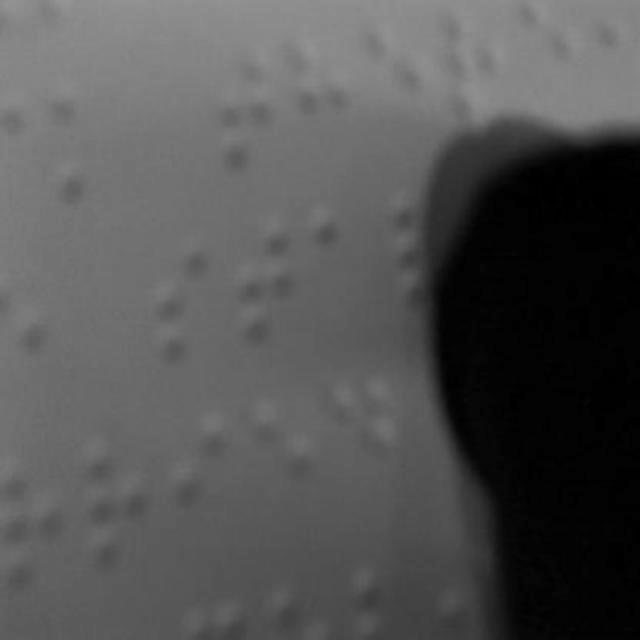braiile: (166, 406, 236, 554), (0, 446, 70, 590), (82, 430, 154, 568), (292, 30, 364, 166), (250, 389, 320, 527), (333, 362, 397, 502), (49, 81, 121, 202), (218, 46, 282, 178), (306, 200, 369, 332), (156, 236, 218, 366), (232, 218, 296, 342)
